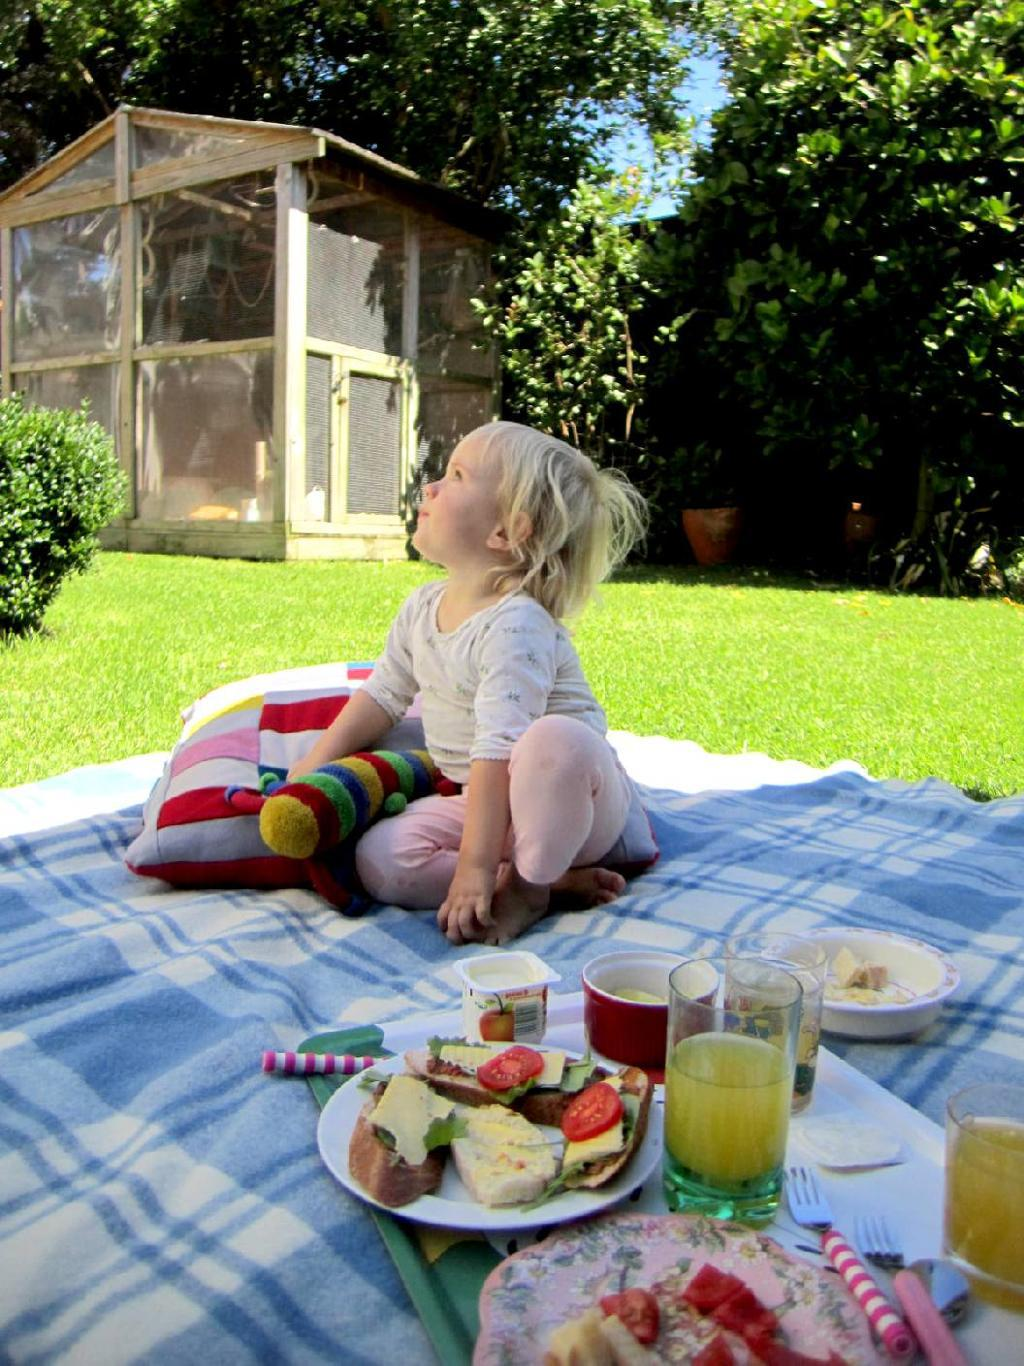face: (412, 438, 513, 558)
